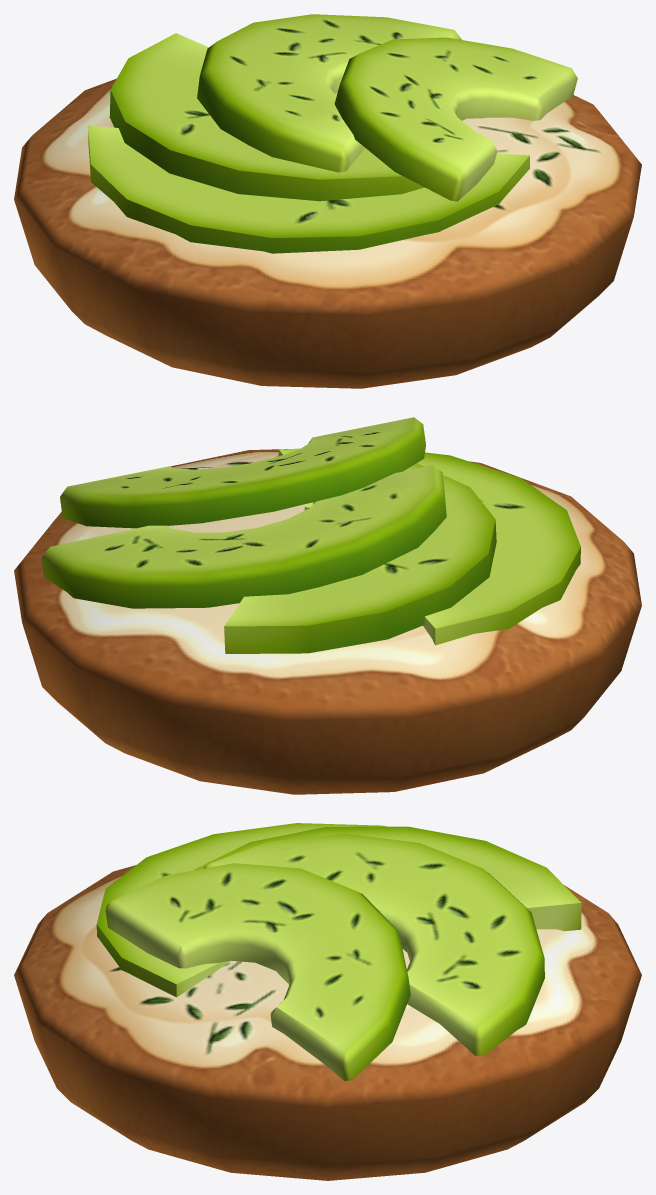
Rendered from 011-Bagels_Halves_01.FBX.
3 views of the same model, one above another, from view 1: azimuth 30°, elevation 25°; view 2: azimuth 150°, elevation 25°; view 3: azimuth 270°, elevation 25° (orthographic).
Visible parts, largest first — view 1: 011-Bagels_Halves_01; view 2: 011-Bagels_Halves_01; view 3: 011-Bagels_Halves_01.
Part boxes in pixels (box(x1,y1,x2,y2)): 011-Bagels_Halves_01: box(14, 14, 641, 388); 011-Bagels_Halves_01: box(14, 417, 641, 794); 011-Bagels_Halves_01: box(14, 823, 641, 1180).
Size of the model in its own units: 17.65 by 6.81 by 17.65.
